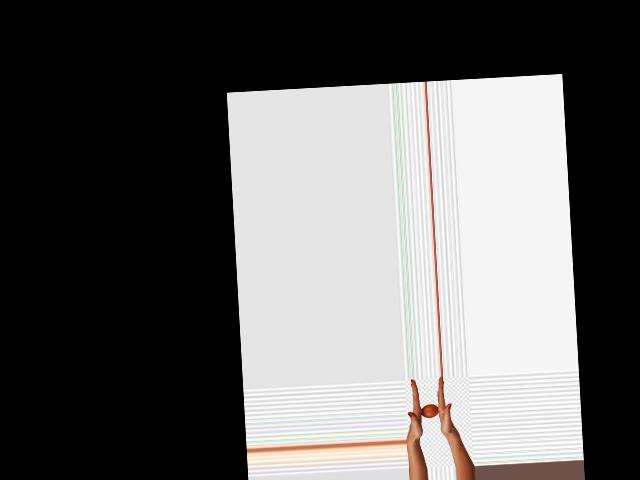egg: (421, 404, 439, 418)
